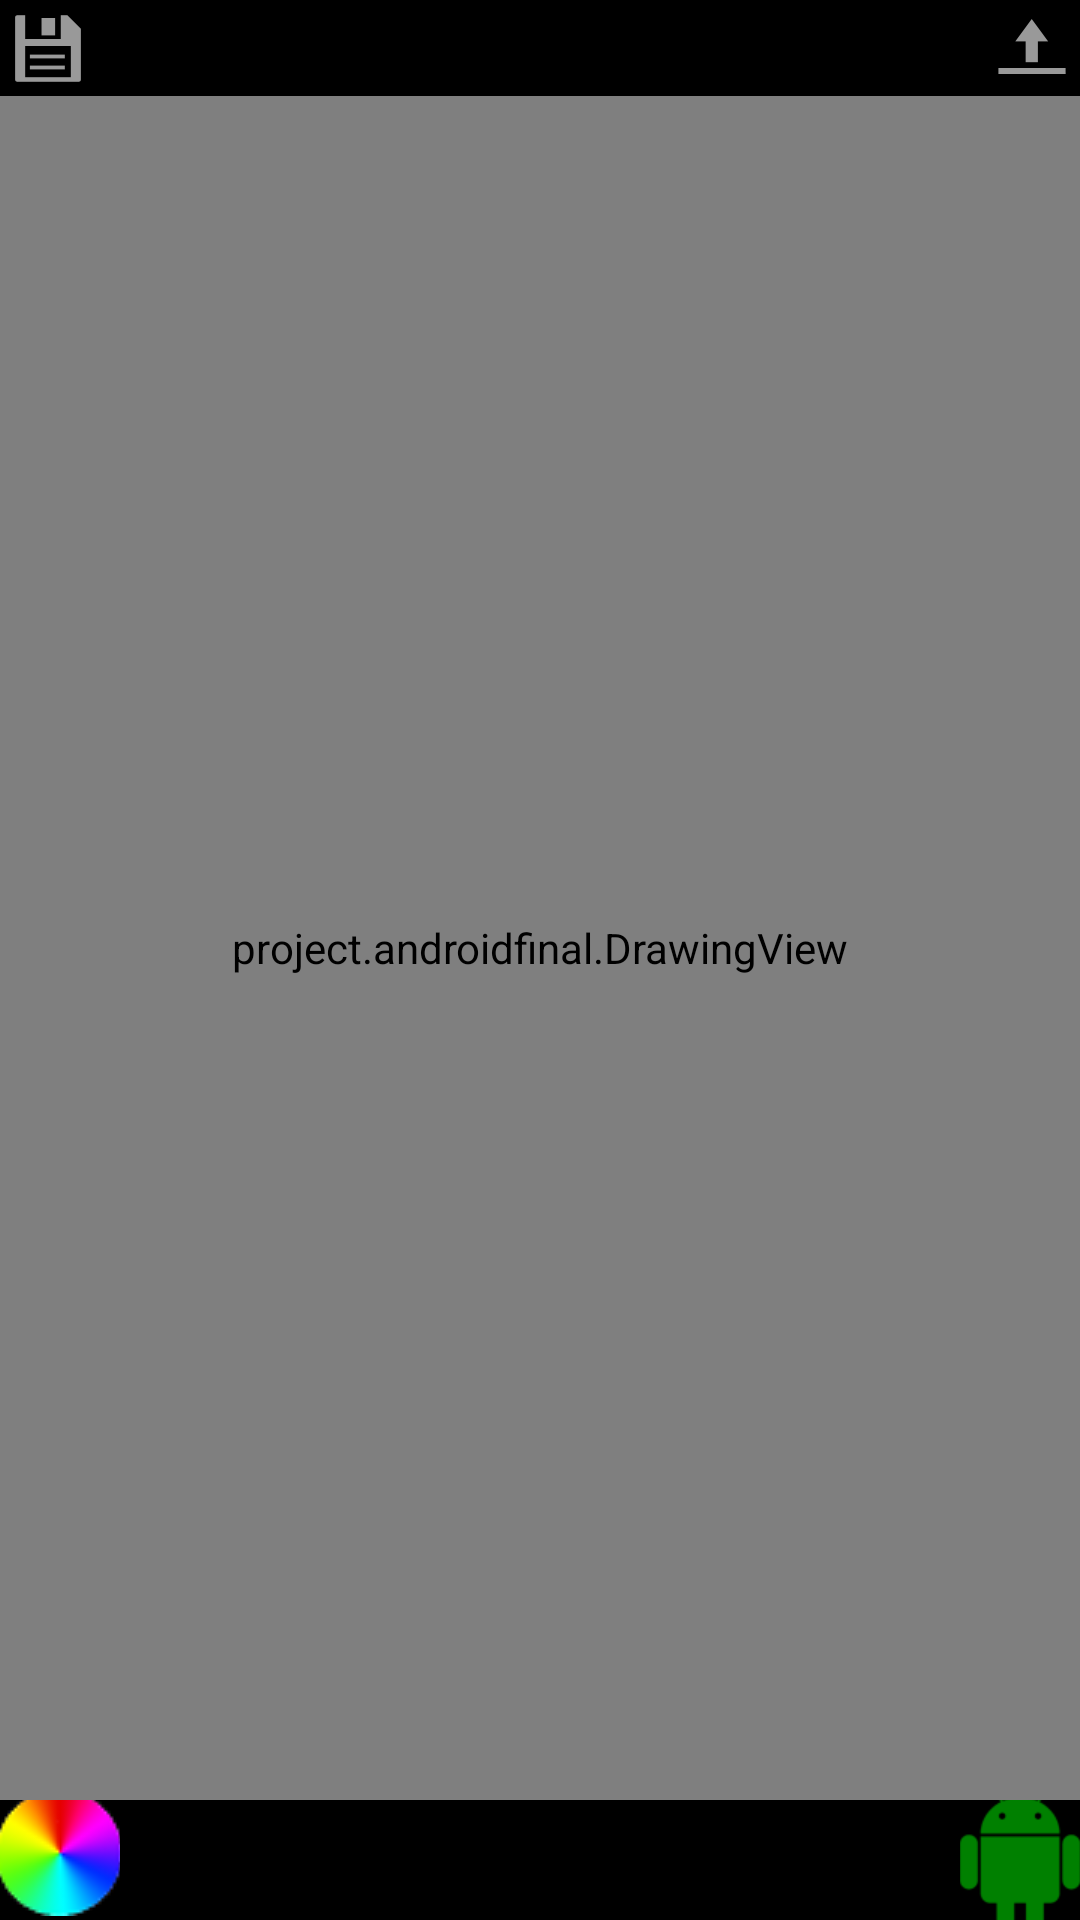

Icon bounding boxes for this 1080x1920 phone screenshot, format (x1, y1, x2, y2):
Save: (15, 15, 81, 82)
upload: (998, 19, 1066, 74)
